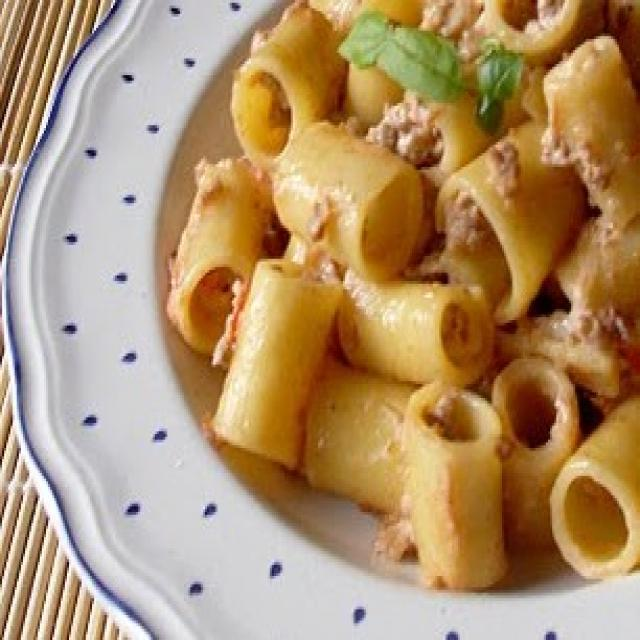Pasta al ragu: (224, 28, 634, 560)
